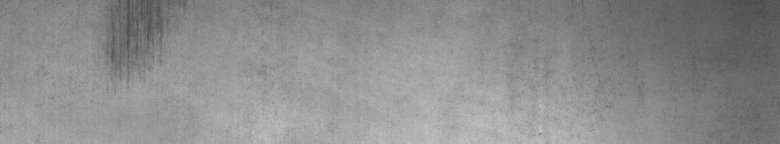ka: (102, 4, 186, 62)
